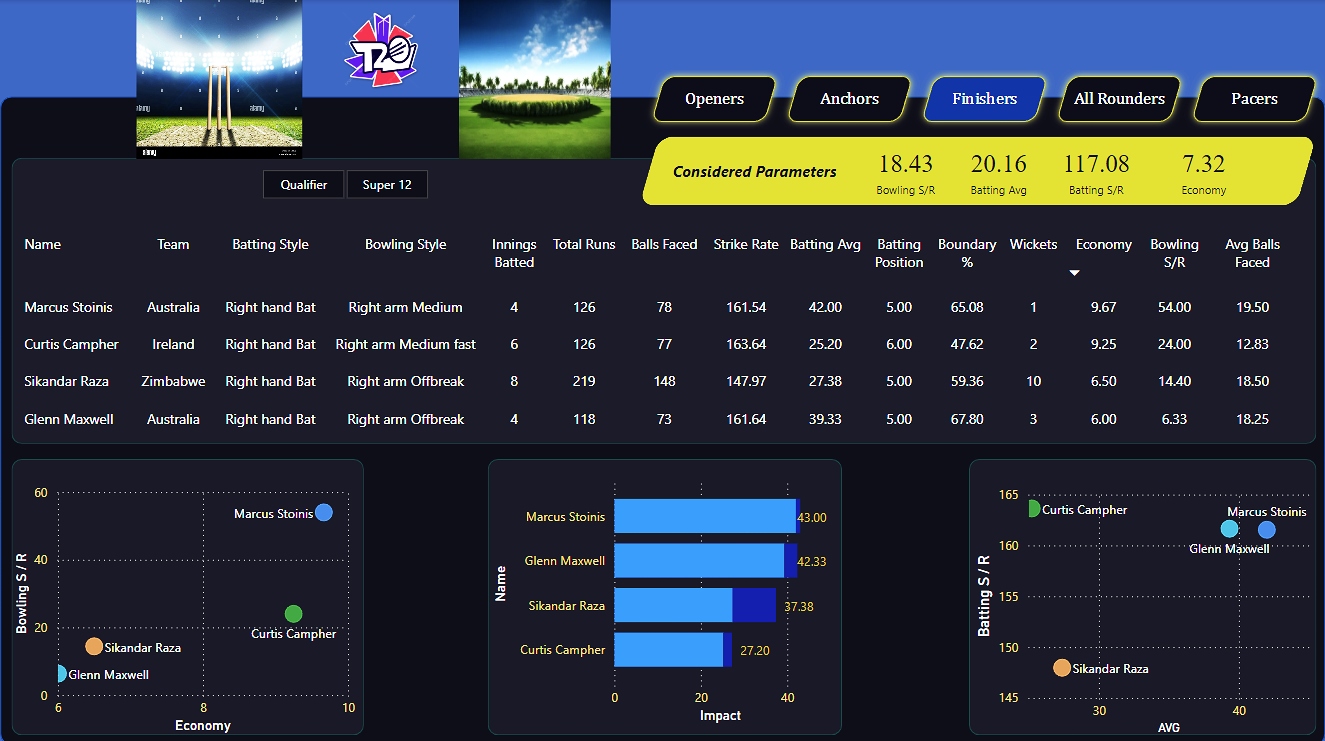

The page's visual inventory and layout, read from the dashboard file:
{"tool":"powerbi","page":{"name":"All Rounders","canvas":[1280,720],"ordinal":3},"visuals":[{"type":"shape","box":[1.2,93.9,1278.8,626.1],"z":0},{"type":"tableEx","fields":{"Values":["list_players.name","list_players.team","list_players.battingStyle","list_players.bowlingStyle","Key_Measures.Total Innings Batted","Key_Measures.Total Runs","Key_Measures.Total Innings Bowled","Key_Measures.Strike rate","Key_Measures.Batting Avg","Key_Measures.wickets","Key_Measures.Economy","Key_Measures.Dot ball %"]},"box":[26.9,216.4,1225.3,218.9],"z":1000},{"type":"scatterChart","fields":{"Category":["list_players.name"],"X":["Key_Measures.Bowling Strike Rate"],"Y":["Key_Measures.Economy"],"Series":["list_players.name"]},"box":[919.6,450,351,261.7],"z":2000},{"type":"shape","box":[908.4,445.2,359.5,270.2],"z":3000},{"type":"shape","box":[13.3,153.2,1254.7,276.3],"z":4000},{"type":"slicer","fields":{"Values":["match_summary.stage"]},"box":[250.9,167.7,199.1,31.4],"z":5000},{"type":"shape","box":[617.7,132.7,653.9,66.4],"z":6000},{"type":"shape","box":[630,153,199.3,25],"z":7000},{"type":"card","fields":{"Values":["Key_Measures.Strike rate"]},"box":[1010.1,133,98.9,66],"z":8000},{"type":"card","fields":{"Values":["Key_Measures.Bowling Strike Rate"]},"box":[830.3,133,90.5,66],"z":9000},{"type":"card","fields":{"Values":["Key_Measures.Batting Avg"]},"box":[920.8,133,89.3,66],"z":10000},{"type":"card","fields":{"Values":["Key_Measures.Economy"]},"box":[1109,133,108.6,66],"z":11000},{"type":"shape","box":[623,67,136.3,58],"z":12000},{"type":"shape","box":[753,67,136.3,58],"z":13000},{"type":"shape","box":[883,67,136.3,58],"z":14000},{"type":"shape","box":[1013,67,136.3,58],"z":15000},{"type":"shape","box":[1143.7,67,136.3,58],"z":16000},{"type":"image","box":[325,5,87.5,88.8],"z":17000},{"type":"image","box":[132.5,0,160,154],"z":18000},{"type":"image","box":[443.8,0,146.2,154],"z":19000},{"type":"pieChart","fields":{"Category":["list_players.name"],"Y":["Key_Measures.wickets","Key_Measures.Batting Avg"]},"box":[466.9,453.6,399.3,261.8],"z":19001},{"type":"clusteredColumnChart","fields":{"Category":["list_players.name"],"Y":["Key_Measures.Bowling Efficiency Index %"]},"box":[16,445.2,351.1,261.8],"z":19002},{"type":"shape","box":[459.7,445.2,361.9,270.2],"z":19003},{"type":"shape","box":[13.3,445.2,359.5,270.2],"z":19004}]}

Visuals, with their boxes in screenshot pixels (x1, y1, x2, y2), scaled from the page's 1280x720 canvas onto the 1325x741 screenshot:
shape: x1=1, y1=97, x2=1324, y2=740
tableEx - list_players.name x list_players.team: x1=28, y1=223, x2=1296, y2=448
scatterChart - list_players.name x Key_Measures.Bowling Strike Rate: x1=952, y1=463, x2=1315, y2=732
shape: x1=940, y1=458, x2=1312, y2=736
shape: x1=14, y1=158, x2=1313, y2=442
slicer - match_summary.stage: x1=260, y1=173, x2=466, y2=205
shape: x1=639, y1=137, x2=1316, y2=205
shape: x1=652, y1=157, x2=858, y2=183
card - Key_Measures.Strike rate: x1=1046, y1=137, x2=1148, y2=205
card - Key_Measures.Bowling Strike Rate: x1=859, y1=137, x2=953, y2=205
card - Key_Measures.Batting Avg: x1=953, y1=137, x2=1046, y2=205
card - Key_Measures.Economy: x1=1148, y1=137, x2=1260, y2=205
shape: x1=645, y1=69, x2=786, y2=129
shape: x1=779, y1=69, x2=921, y2=129
shape: x1=914, y1=69, x2=1055, y2=129
shape: x1=1049, y1=69, x2=1190, y2=129
shape: x1=1184, y1=69, x2=1324, y2=129
image: x1=336, y1=5, x2=427, y2=97
image: x1=137, y1=0, x2=303, y2=158
image: x1=459, y1=0, x2=611, y2=158
pieChart - list_players.name x Key_Measures.wickets: x1=483, y1=467, x2=897, y2=736
clusteredColumnChart - list_players.name x Key_Measures.Bowling Efficiency Index %: x1=17, y1=458, x2=380, y2=728
shape: x1=476, y1=458, x2=850, y2=736
shape: x1=14, y1=458, x2=386, y2=736
